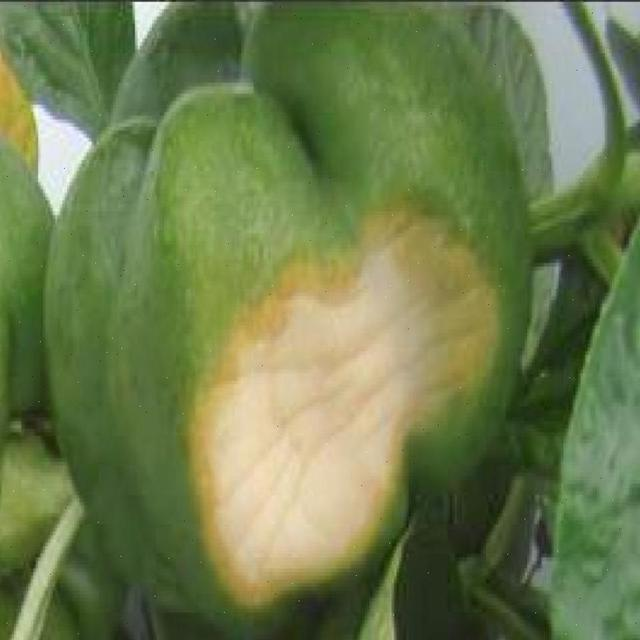Sunscald Fruit: (111, 132, 340, 413)
